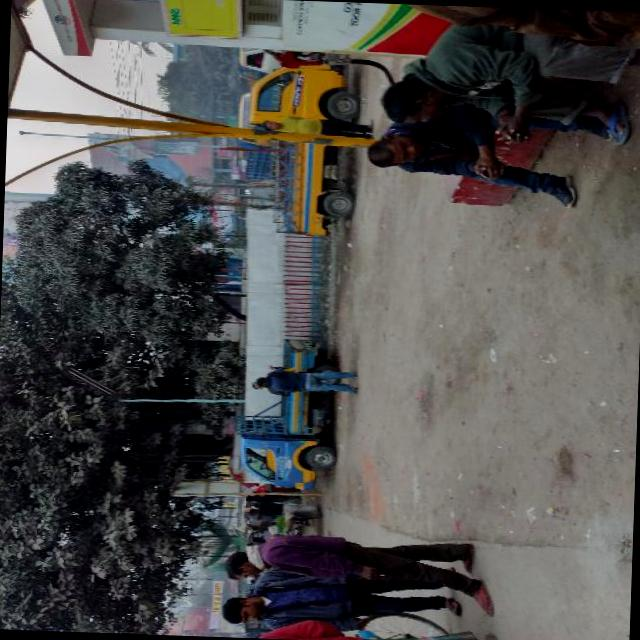truck: (244, 60, 360, 236), (231, 335, 346, 489), (234, 88, 275, 179)
